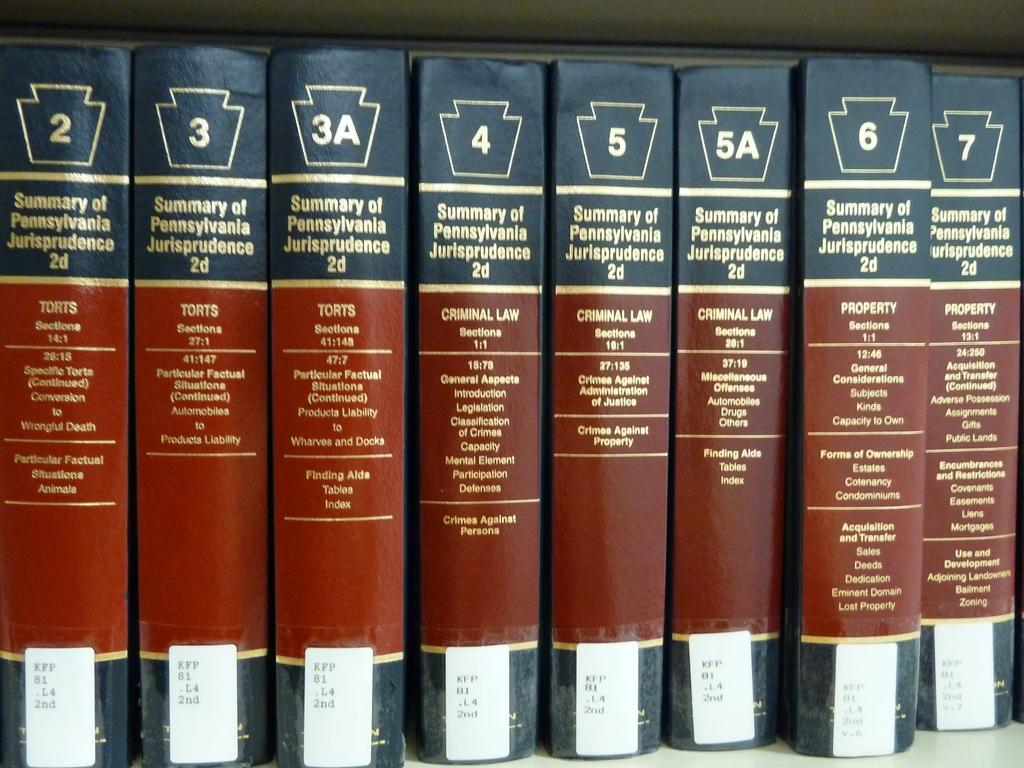Book: (781, 54, 932, 758), (268, 45, 409, 767), (131, 42, 271, 767), (411, 53, 548, 764), (0, 37, 131, 767), (667, 61, 797, 751), (548, 58, 674, 759), (918, 59, 1023, 732)
